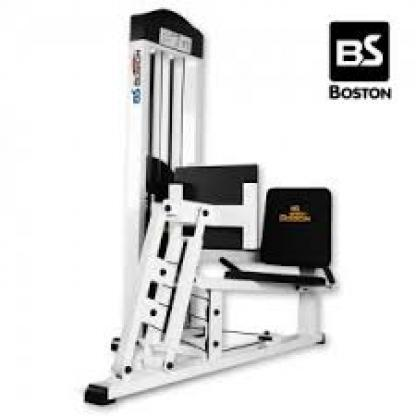leg press: (70, 5, 347, 409)
